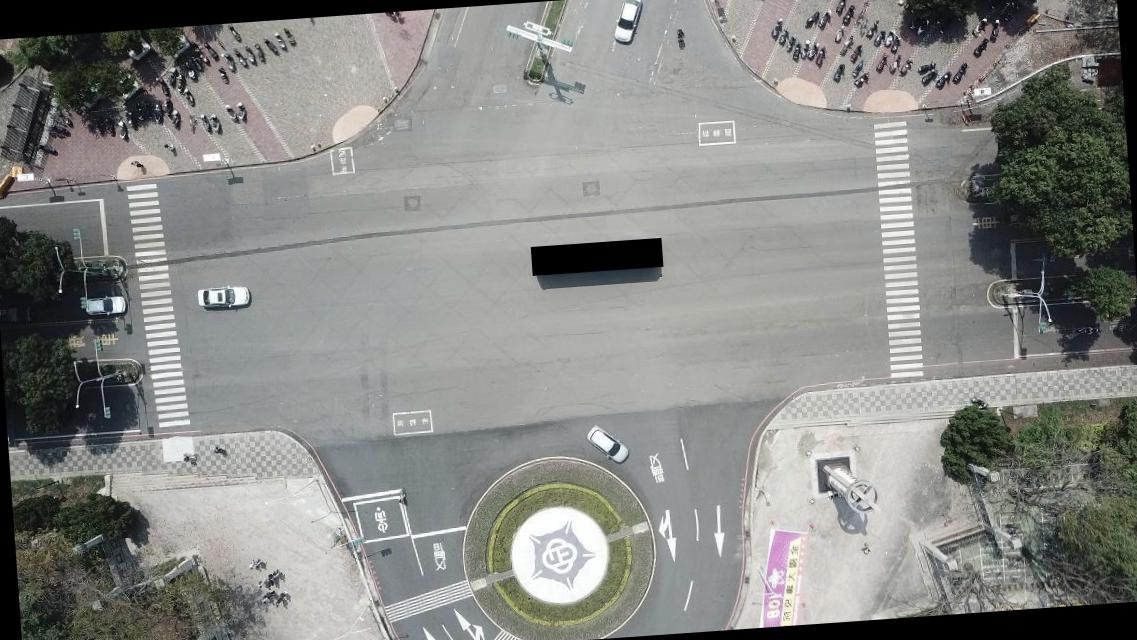vehicle: (586, 424, 630, 466), (609, 0, 647, 47), (196, 284, 250, 310), (85, 295, 126, 318), (0, 303, 31, 323)
